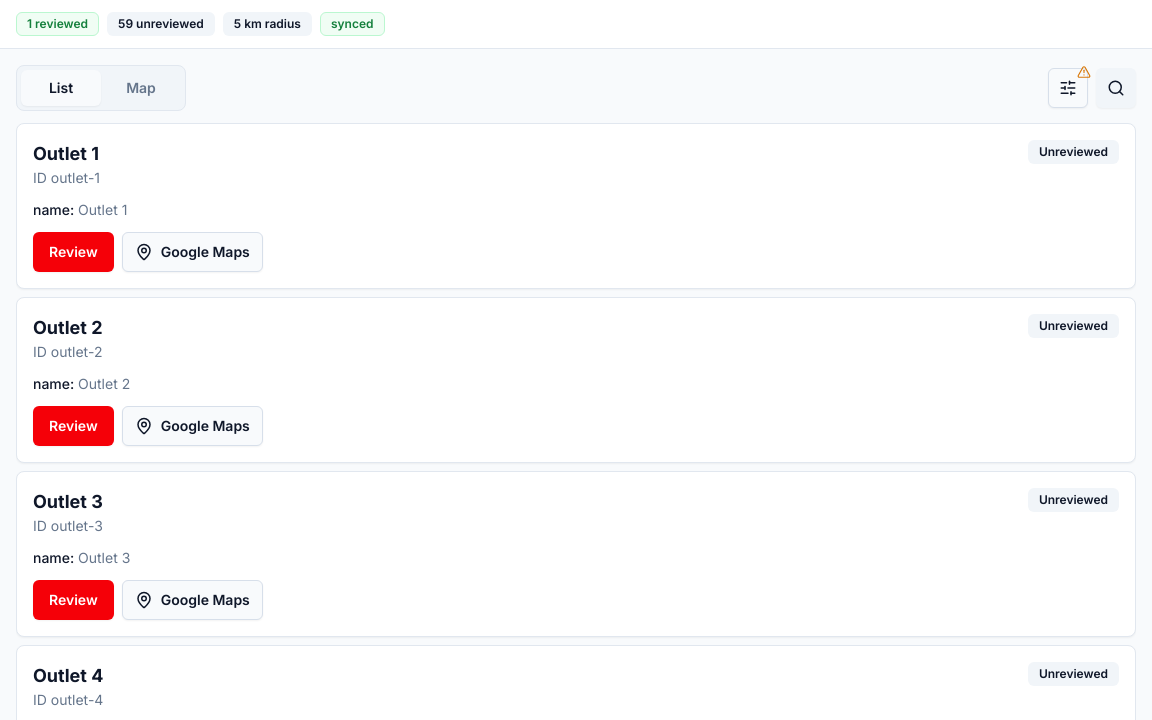
Test case: Step7MapView › moves review filters into settings and defaults to unreviewed
Click the button named "Settings".
click(1068, 88)  # box [1048,68,1088,108]
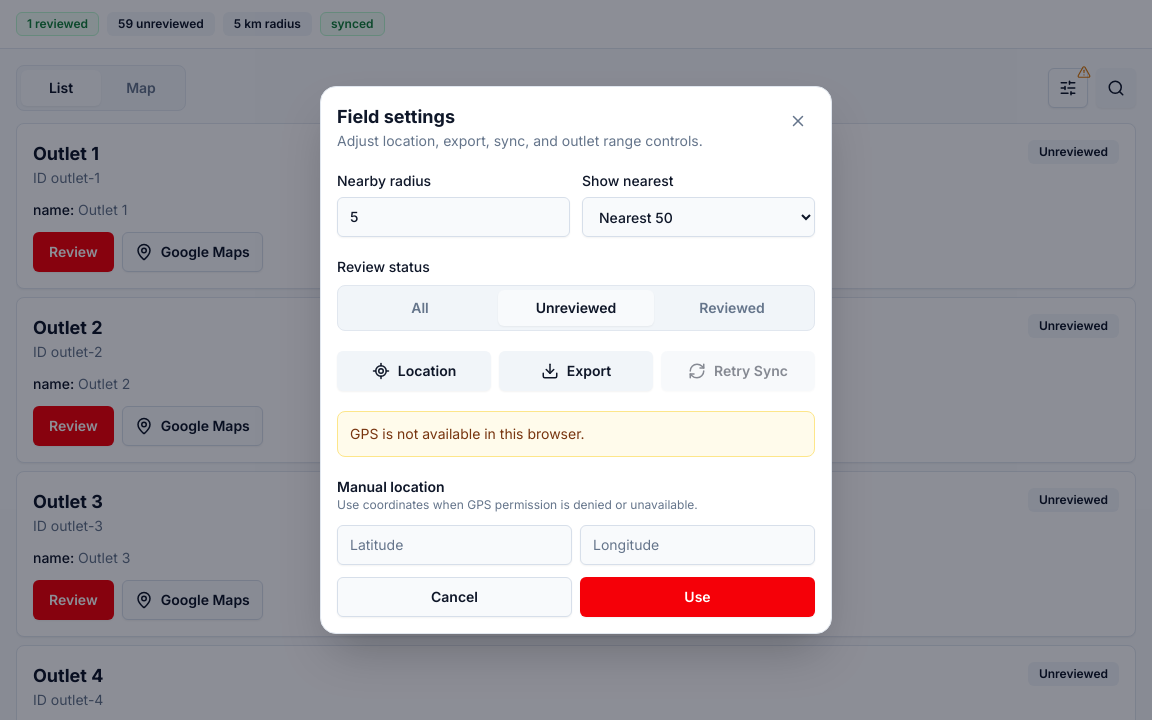
Expected: the button "All" is shown
Expected: the button "Unreviewed" is shown, [498,290,654,326]
Expected: the button "Reviewed" is shown, [654,290,810,326]
Click the button "All".
click(420, 308)  # box [342,290,498,326]
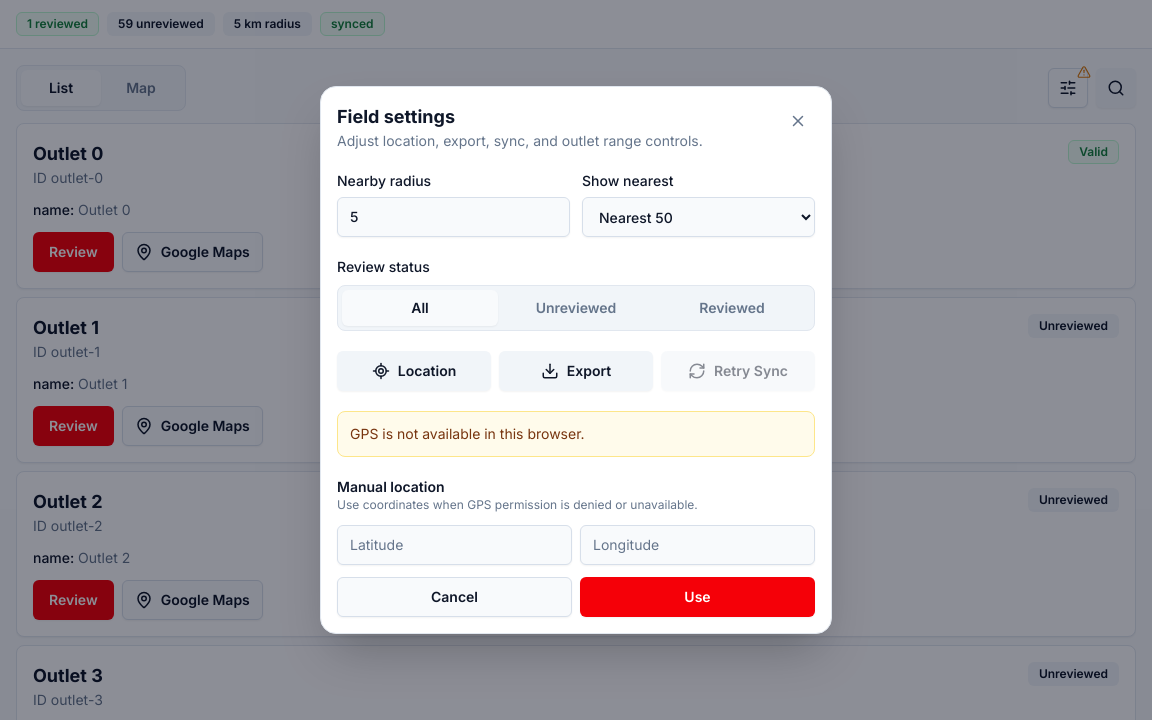
Expected: the number of buttons "Review" is 50
Click the button "Reviewed".
click(732, 308)  # box [654,290,810,326]
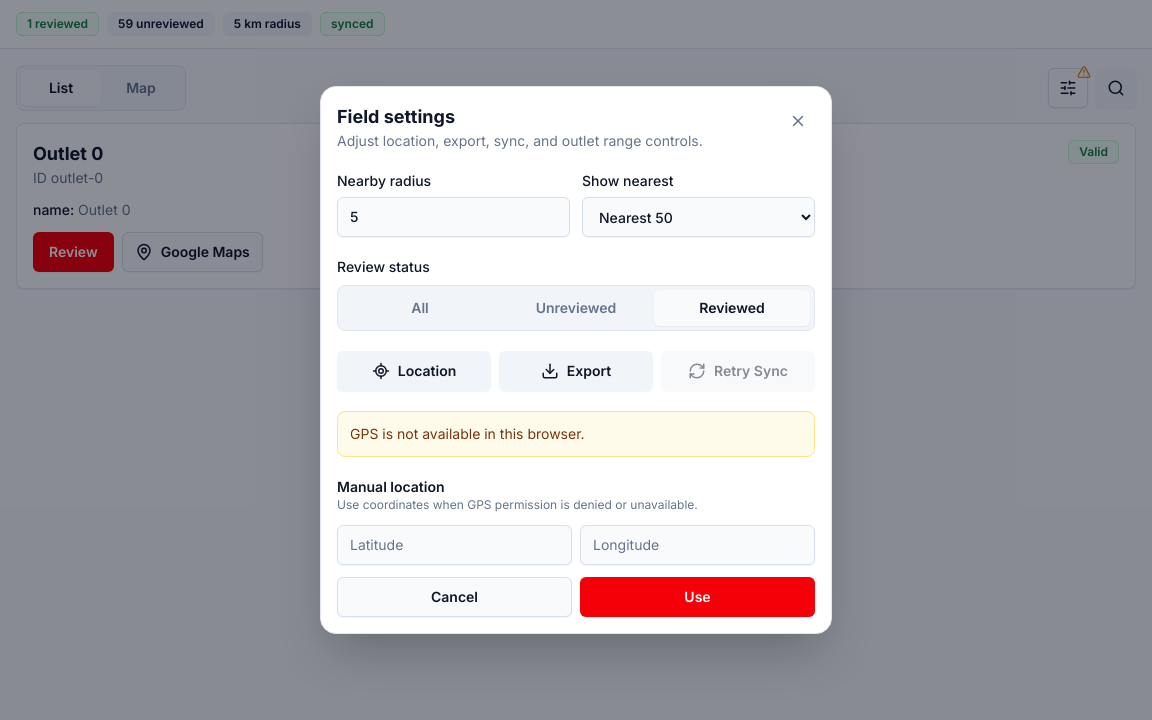
Expected: the number of buttons "Review" is 1, [33,232,114,272]
